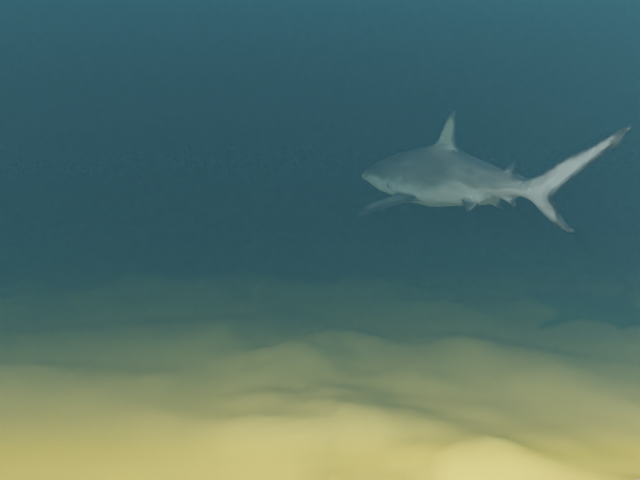Carribean Shark.001: (358, 110, 631, 232)
